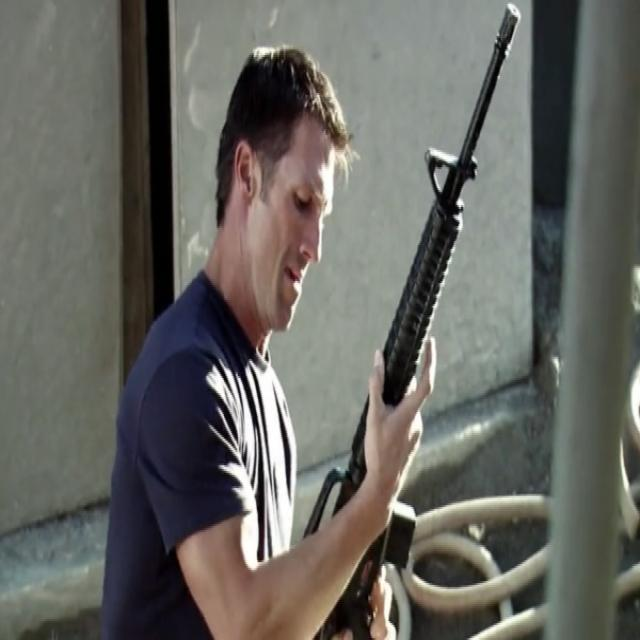rifle: (308, 1, 523, 640)
